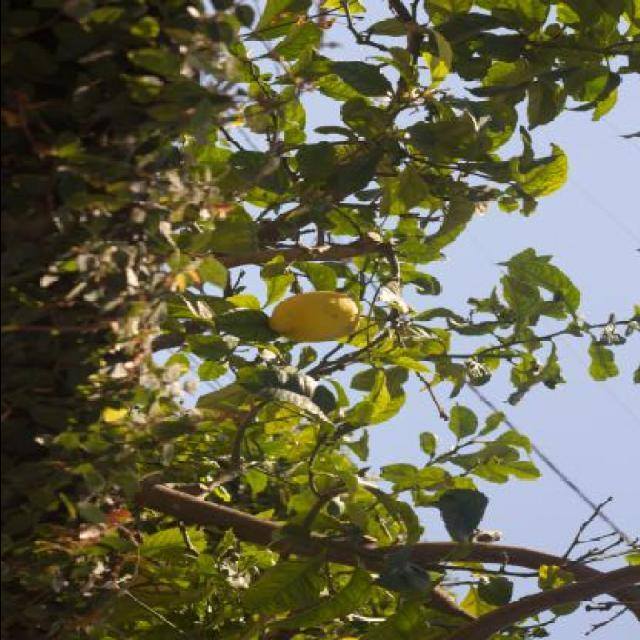Lemon: (270, 292, 361, 344)
